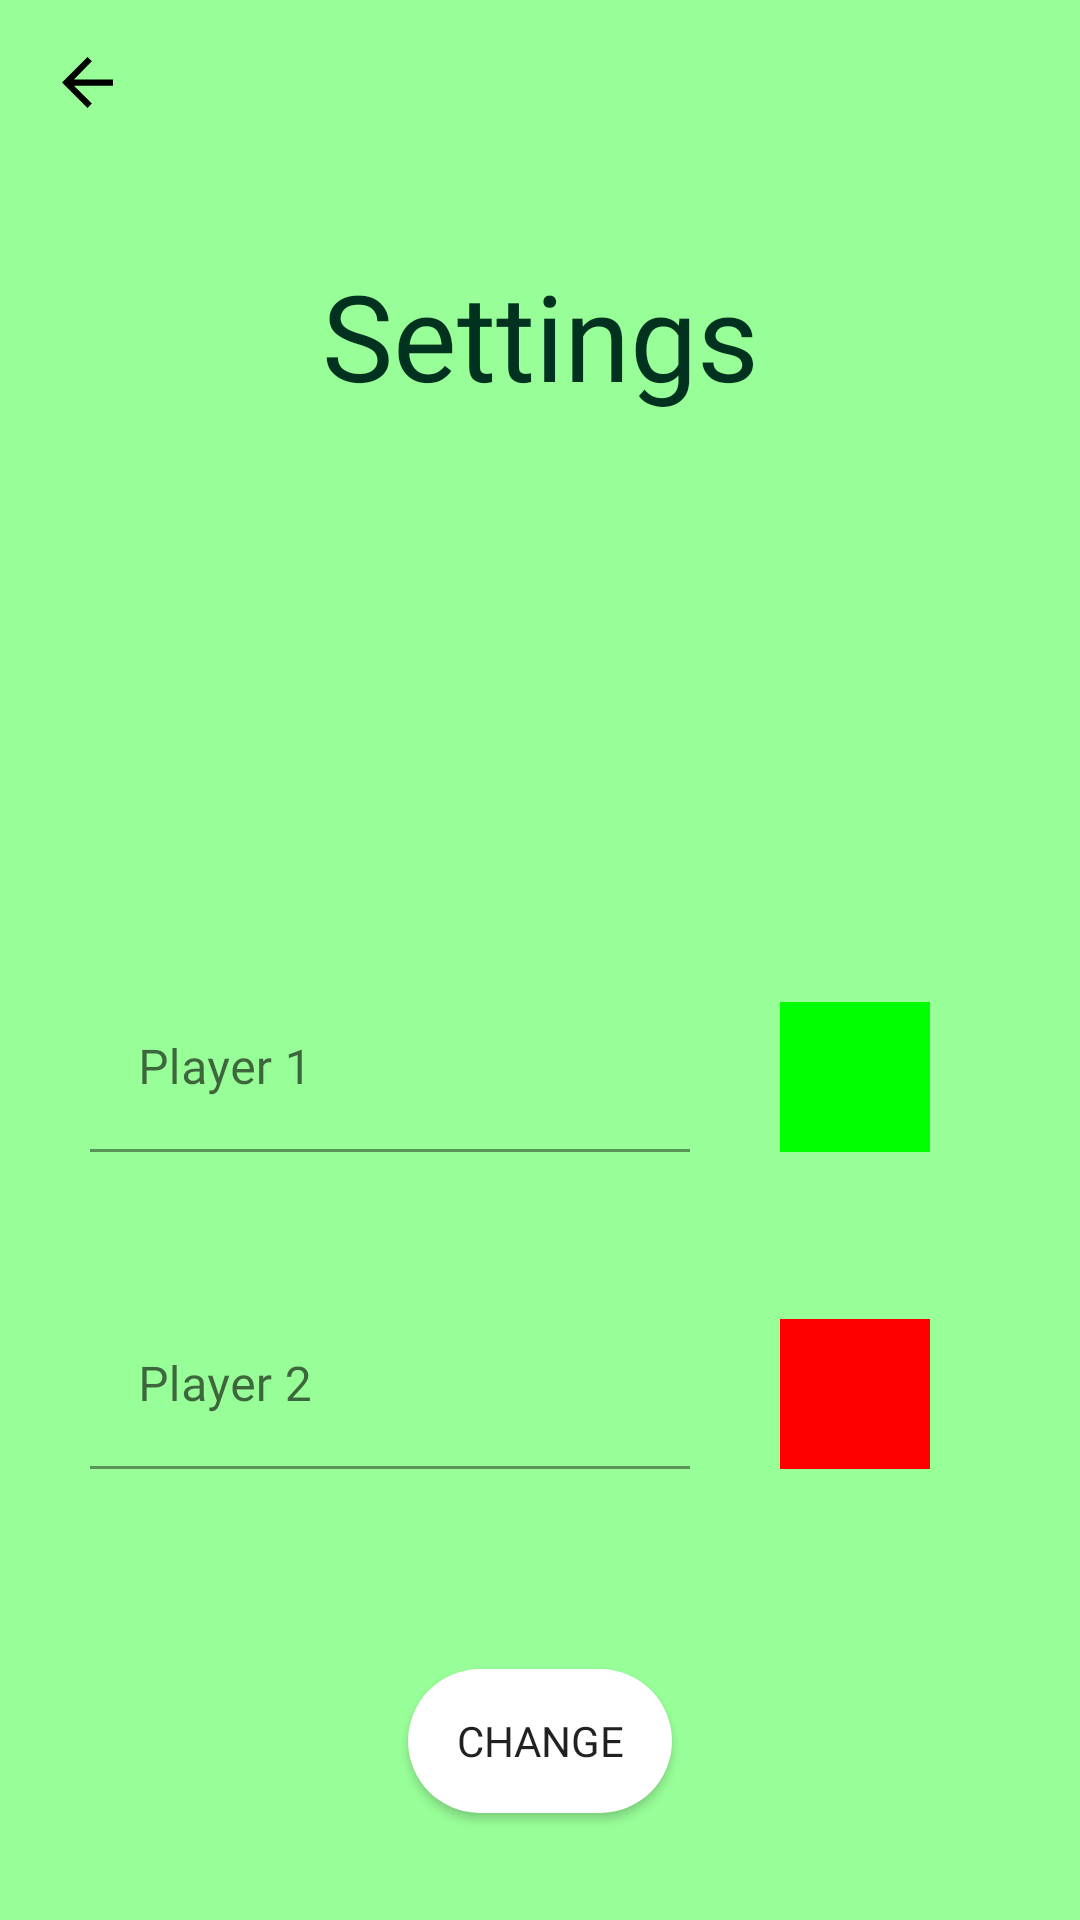

Where to tap for icons on this 1080 x 1920 app screen, as (x=x, y=y):
arrow back: (x=87, y=82)
